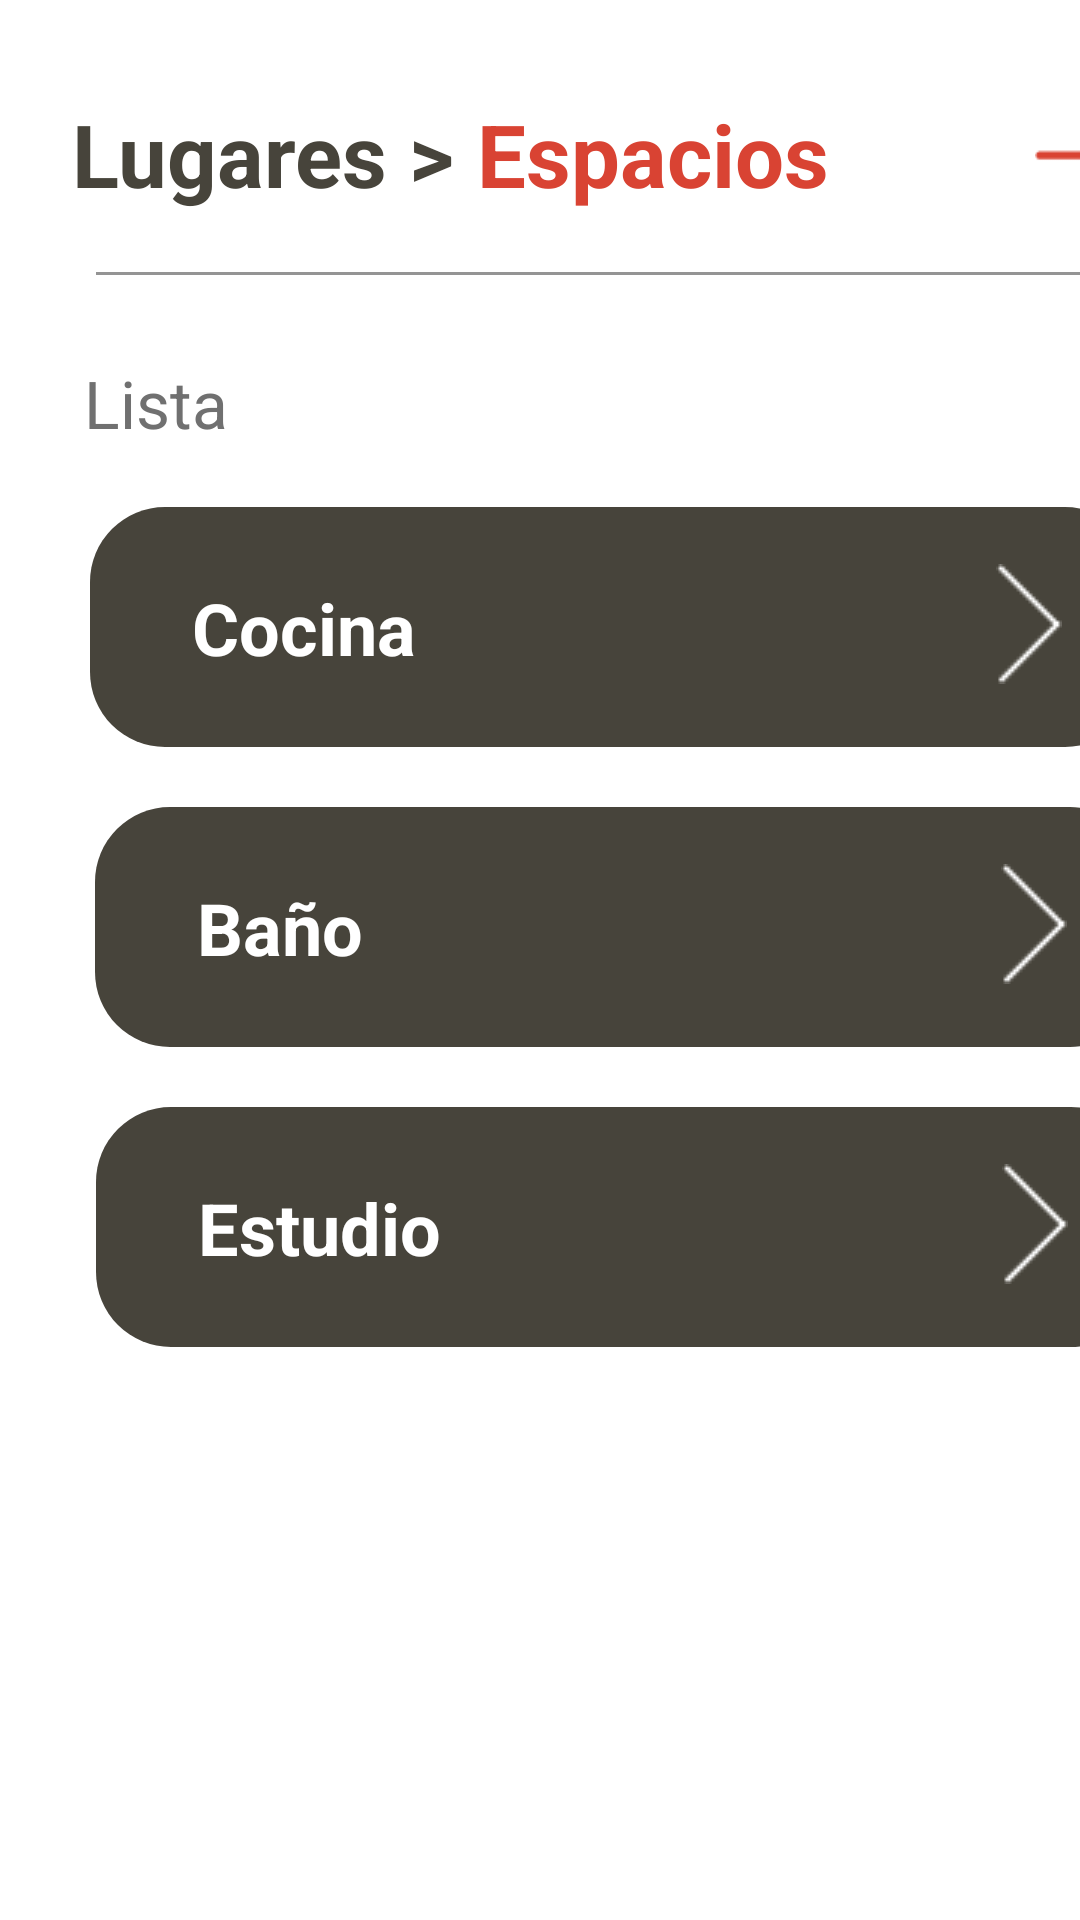

Screen size 1080px x 1920px. Icon name, then its center in pixels as point (x, y):
adelante: point (1029, 624), point (1034, 924), point (1035, 1224)
